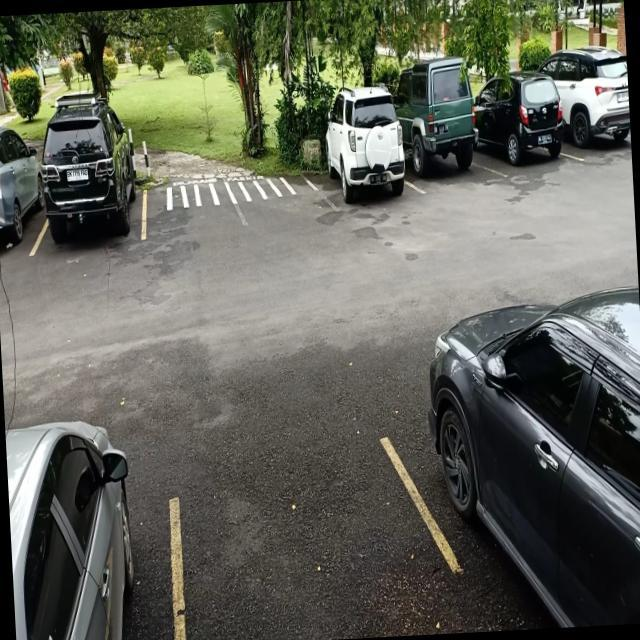occupied: (27, 119, 148, 259), (312, 110, 412, 214), (406, 85, 486, 198), (480, 96, 570, 181)
